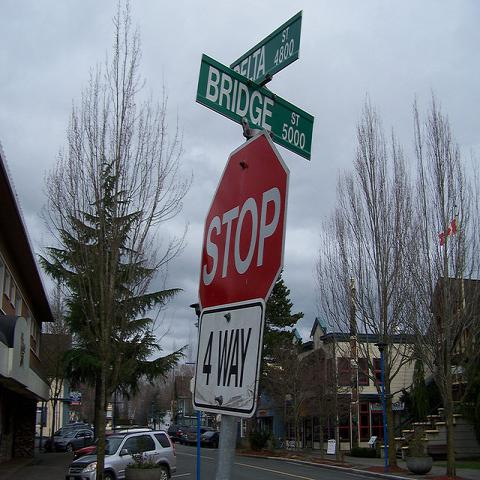car: (65, 430, 177, 479), (74, 431, 116, 464), (44, 424, 91, 451), (55, 428, 94, 452), (167, 423, 191, 445), (187, 426, 206, 446), (200, 431, 220, 448), (180, 428, 190, 444)
